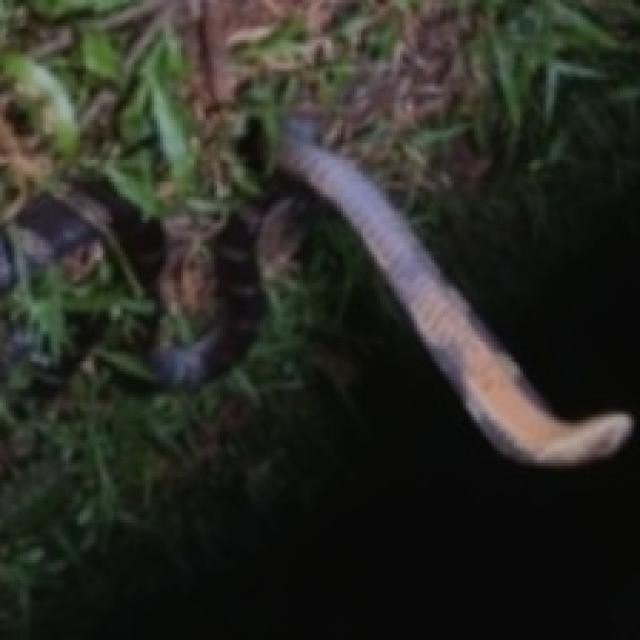king cobra: (283, 111, 631, 466), (154, 197, 277, 383)
